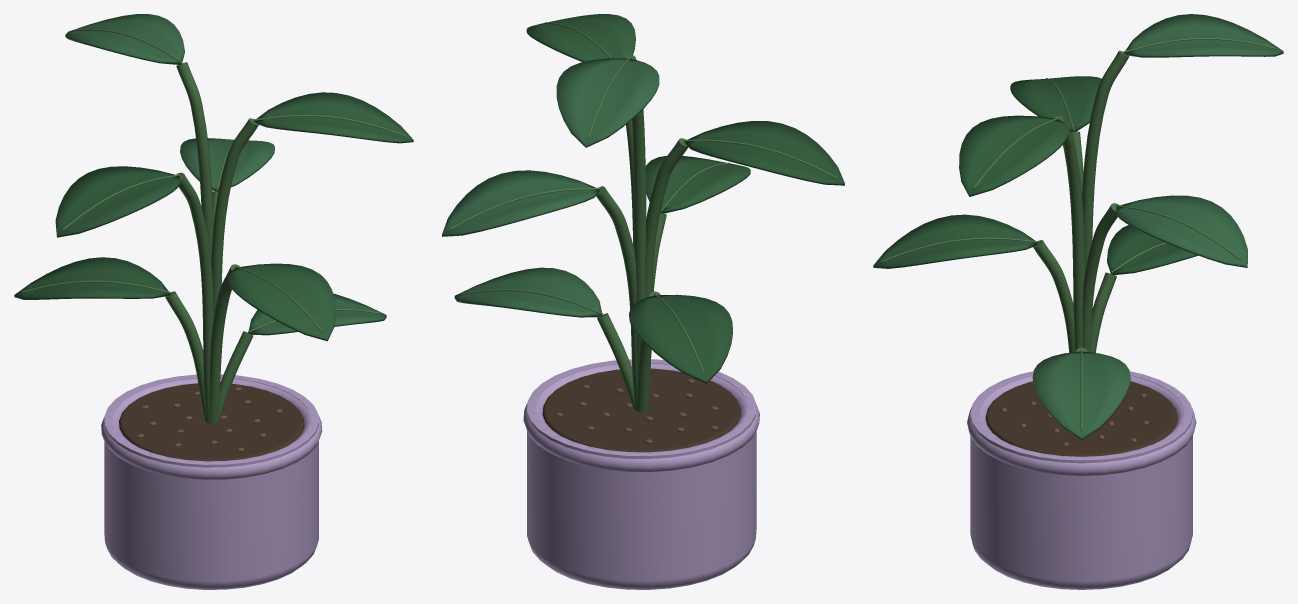
The model's file is plantTallPurple.glb.
3 renders of one model, left to right at view 1: azimuth 30°, elevation 25°; view 2: azimuth 150°, elevation 25°; view 3: azimuth 270°, elevation 25°, orthographic. The views are drawn at different scales.
Visible parts, largest first — view 1: Ceramic planter, Soil, Leaf blade 3, Leaf blade 5, Leaf blade 6, Pot rim, Leaf blade 2, Leaf blade 7, Leaf blade 4, Stem.004, Stem.005, Stem.006 (+4 smaller); view 2: Ceramic planter, Soil, Leaf blade 7, Leaf blade 2, Leaf blade 4, Leaf blade 5, Pot rim, Leaf blade 1, Leaf blade 6, Leaf blade 3, Stem.006, Stem.004 (+3 smaller); view 3: Ceramic planter, Soil, Leaf blade 1, Leaf blade 6, Leaf blade 4, Leaf blade 3, Leaf blade 7, Pot rim, Leaf blade 5, Stem.005, Leaf blade 2, Stem.006 (+3 smaller).
Boxes of the visible parts, left/top/right/bottom form: Ceramic planter: left=104, top=374, right=318, bottom=589; Soil: left=119, top=383, right=304, bottom=461; Leaf blade 3: left=227, top=263, right=335, bottom=341; Leaf blade 5: left=55, top=166, right=180, bottom=237; Leaf blade 6: left=254, top=92, right=413, bottom=143; Pot rim: left=101, top=378, right=322, bottom=479; Leaf blade 2: left=14, top=257, right=170, bottom=299; Leaf blade 7: left=65, top=14, right=184, bottom=64; Leaf blade 4: left=180, top=138, right=274, bottom=191; Stem.004: left=176, top=172, right=213, bottom=423; Stem.005: left=211, top=118, right=258, bottom=319; Stem.006: left=176, top=62, right=213, bottom=260; Ceramic planter: left=527, top=359, right=756, bottom=589; Soil: left=542, top=368, right=740, bottom=452; Leaf blade 7: left=556, top=58, right=659, bottom=147; Leaf blade 2: left=629, top=294, right=732, bottom=383; Leaf blade 4: left=442, top=170, right=599, bottom=236; Leaf blade 5: left=684, top=121, right=844, bottom=185; Pot rim: left=523, top=363, right=759, bottom=472; Leaf blade 1: left=454, top=267, right=602, bottom=317; Leaf blade 6: left=526, top=14, right=635, bottom=61; Leaf blade 3: left=645, top=156, right=750, bottom=213; Stem.006: left=624, top=54, right=646, bottom=376; Stem.004: left=645, top=138, right=688, bottom=409; Ceramic planter: left=970, top=371, right=1192, bottom=589; Soil: left=985, top=381, right=1177, bottom=456; Leaf blade 1: left=1032, top=351, right=1130, bottom=440; Leaf blade 6: left=959, top=115, right=1068, bottom=196; Leaf blade 4: left=1116, top=195, right=1247, bottom=267; Leaf blade 3: left=873, top=214, right=1037, bottom=268; Leaf blade 7: left=1124, top=14, right=1283, bottom=57; Pot rim: left=967, top=376, right=1196, bottom=475; Leaf blade 5: left=1010, top=76, right=1101, bottom=131; Stem.005: left=1054, top=115, right=1084, bottom=351; Leaf blade 2: left=1107, top=225, right=1197, bottom=275; Stem.006: left=1082, top=50, right=1129, bottom=272.
Bounding box in the file's own units: 1.23 × 1.64 × 1.22.
